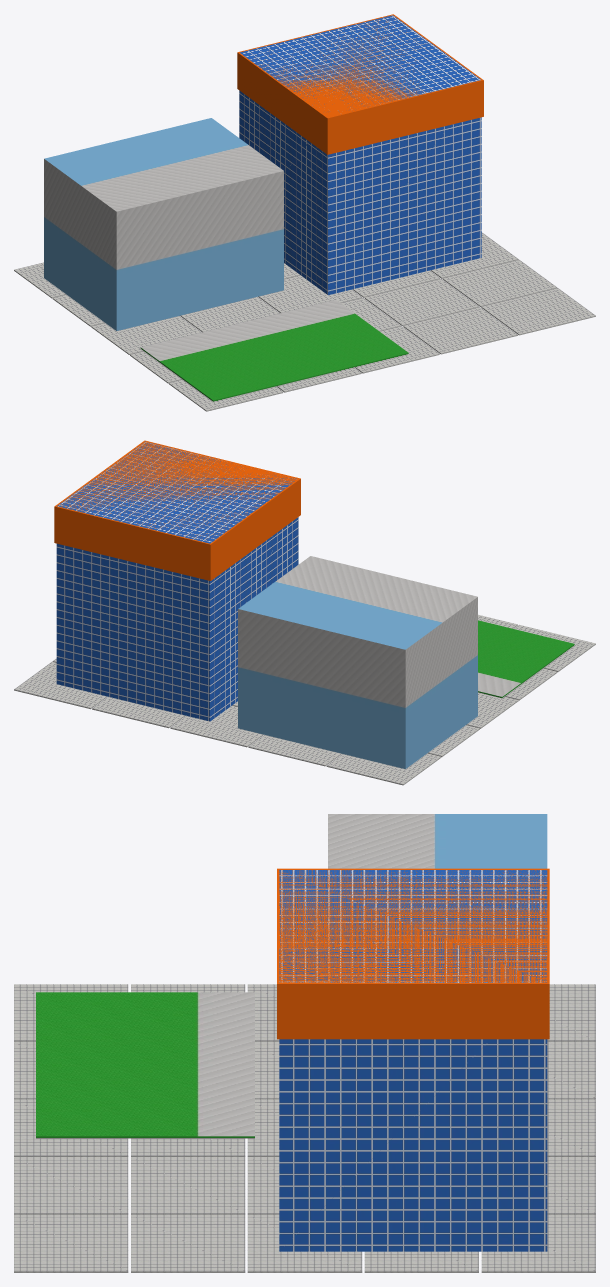
3 views of the same model, one above another, from view 1: azimuth 30°, elevation 25°; view 2: azimuth 150°, elevation 25°; view 3: azimuth 270°, elevation 25° (orthographic). The views are drawn at different scales.
Parts seen in each view (by area): view 1: 28185_B27_JEI_Songdo_Bio_Campus; view 2: 28185_B27_JEI_Songdo_Bio_Campus; view 3: 28185_B27_JEI_Songdo_Bio_Campus.
Part boxes in pixels (x1=…): 28185_B27_JEI_Songdo_Bio_Campus: x1=14, y1=14, x2=595, y2=411; 28185_B27_JEI_Songdo_Bio_Campus: x1=14, y1=440, x2=595, y2=785; 28185_B27_JEI_Songdo_Bio_Campus: x1=14, y1=814, x2=595, y2=1272.
Size of the model in its own units: 55.8 by 24.5 by 47.8.
1 material, 1 textured.
